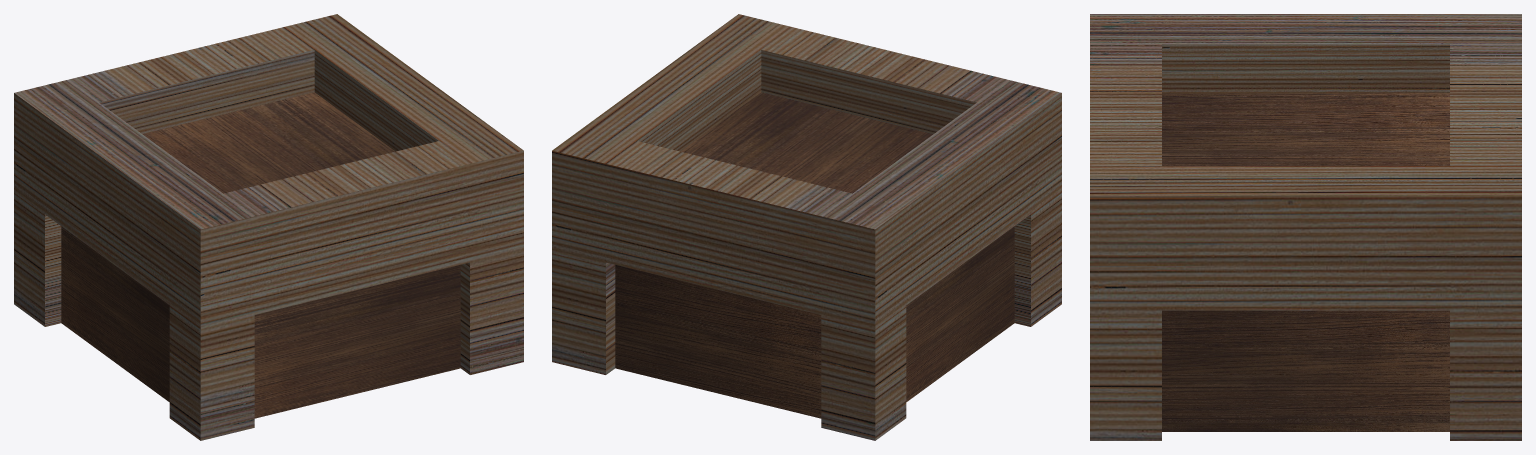
Rendered from wall6.fbx.
The picture shows the model from 3 angles, left to right: view 1: azimuth 30°, elevation 25°; view 2: azimuth 150°, elevation 25°; view 3: azimuth 270°, elevation 25°; orthographic projection. The views are drawn at different scales.
Visible parts, largest first — view 1: Cube.005; view 2: Cube.005; view 3: Cube.005.
Part boxes in pixels (<box>): Cube.005: <box>14,14,523,440</box>; Cube.005: <box>552,14,1061,440</box>; Cube.005: <box>1090,14,1521,440</box>.
Bounding box in the file's own units: 200 × 125 × 200.
